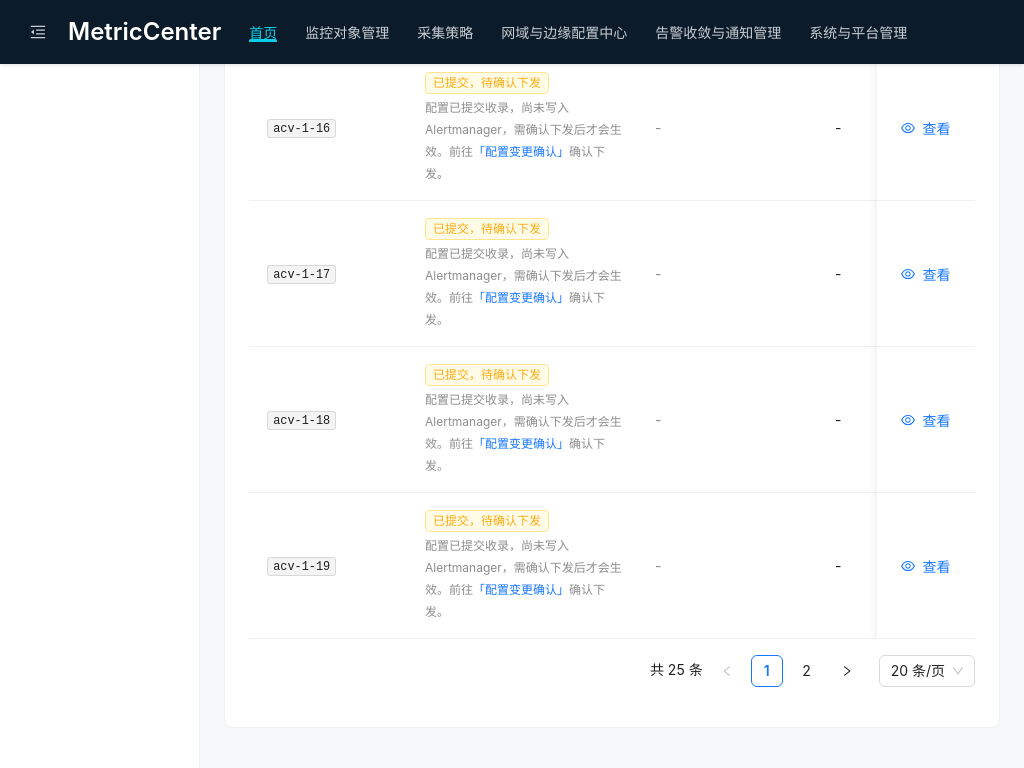
Test: AlertConfigPage 分页：每页条数 20→10 应真正生效 › 选「10 条/页」后选择器显示 10、请求带 page_size=10、loading 不卡死
(page scrolled)
Press the mouse on the text "20 条/页" at (918, 670), box [891,662,945,679]
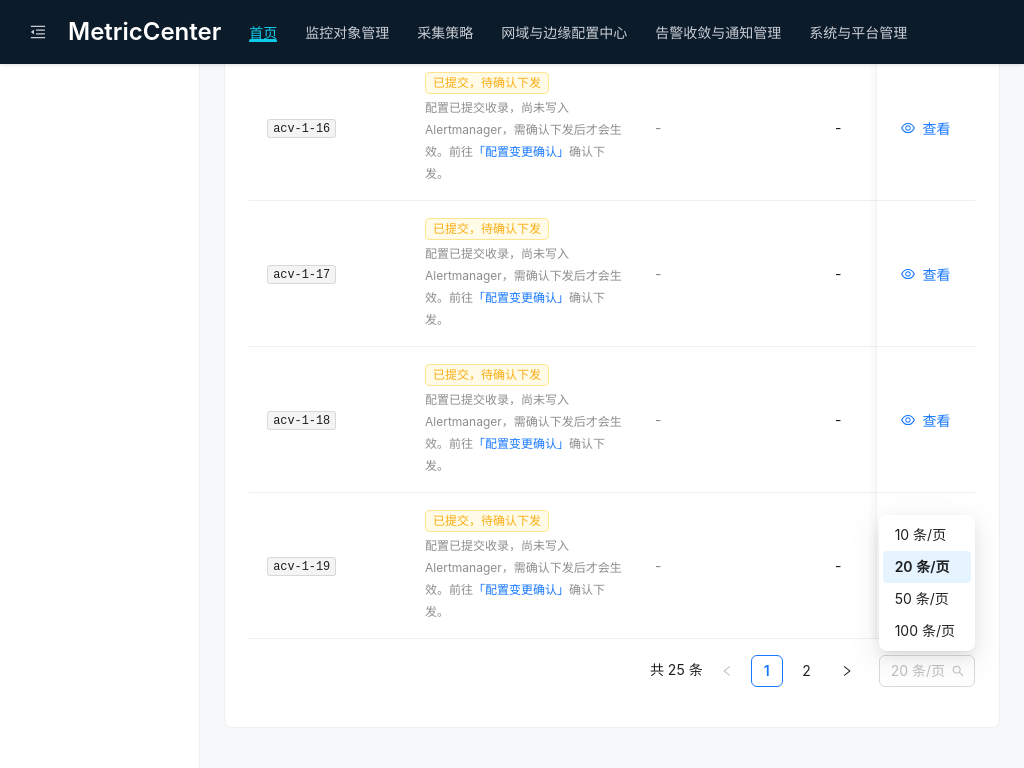
Click the option "10 条/页".
click(920, 534)  # box [895,526,946,543]
(page scrolled)
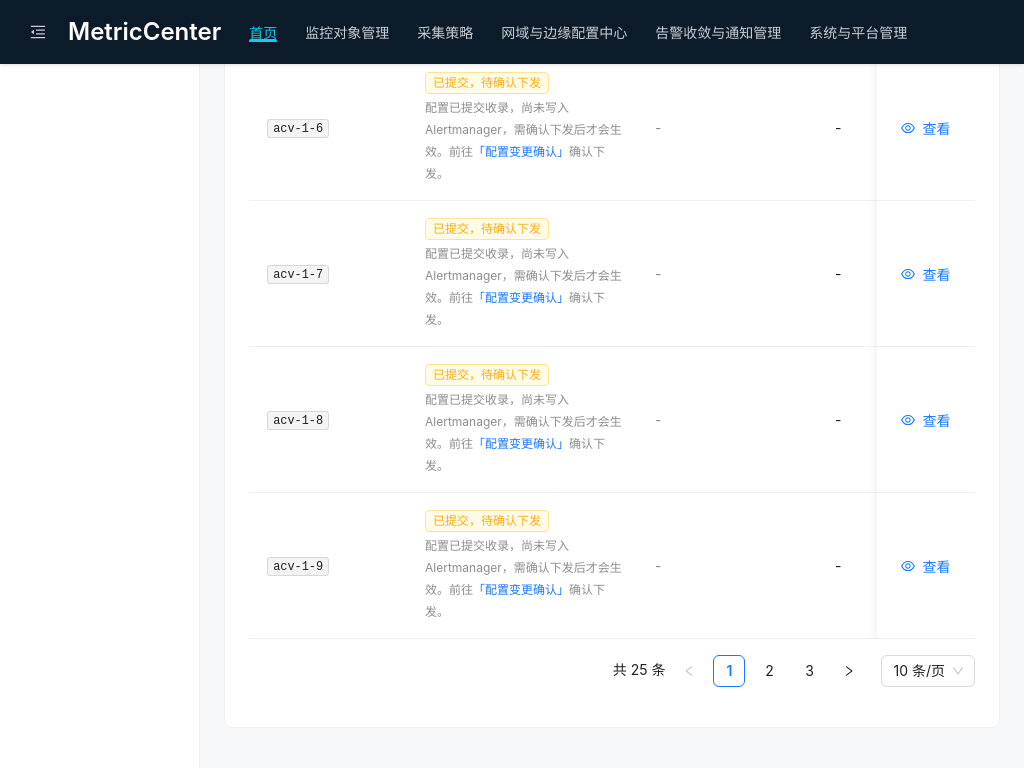
Expected: the text "20 条/页" reads "10 条/页", [894,662,945,679]
Expected: the text "20 条/页" is gone
